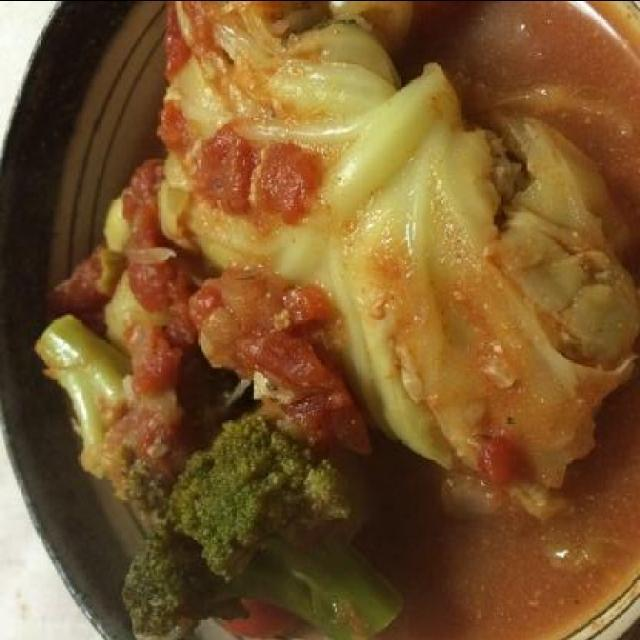Broccoli: (115, 409, 408, 640), (30, 310, 199, 512)
